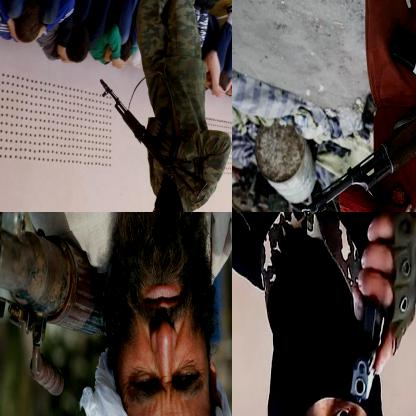pistol: (338, 296, 390, 405)
rifle: (299, 31, 415, 211), (0, 212, 110, 398), (99, 75, 207, 201)
